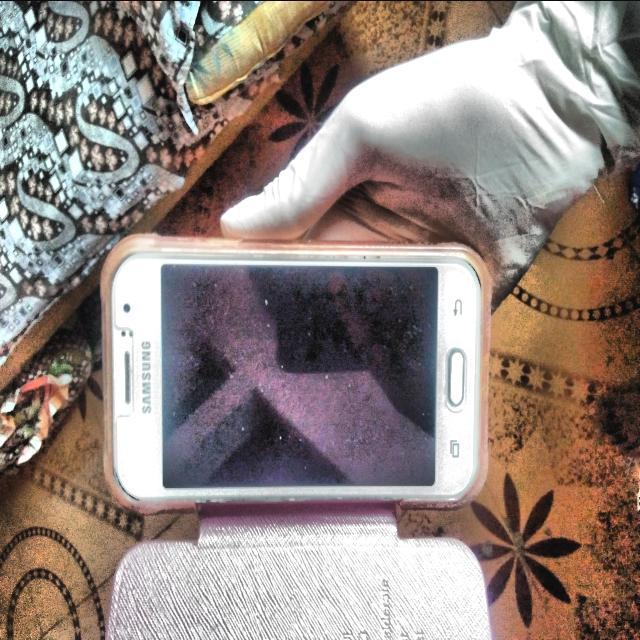gloved: (210, 2, 639, 320)
